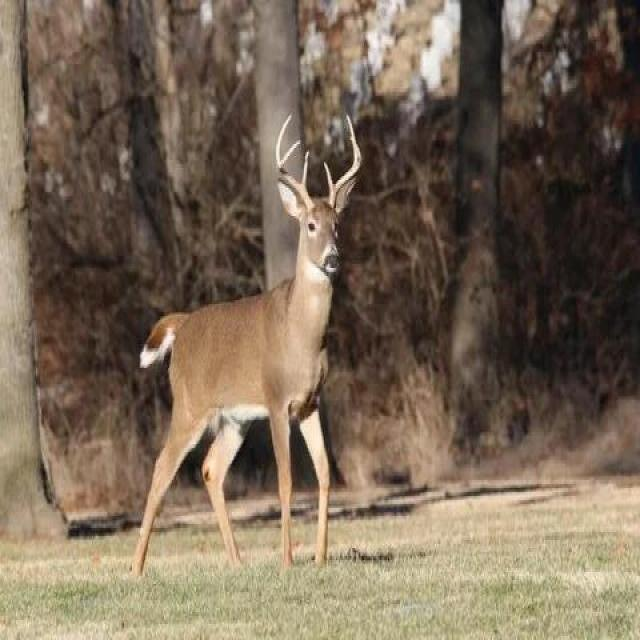deer: (120, 153, 432, 582)
